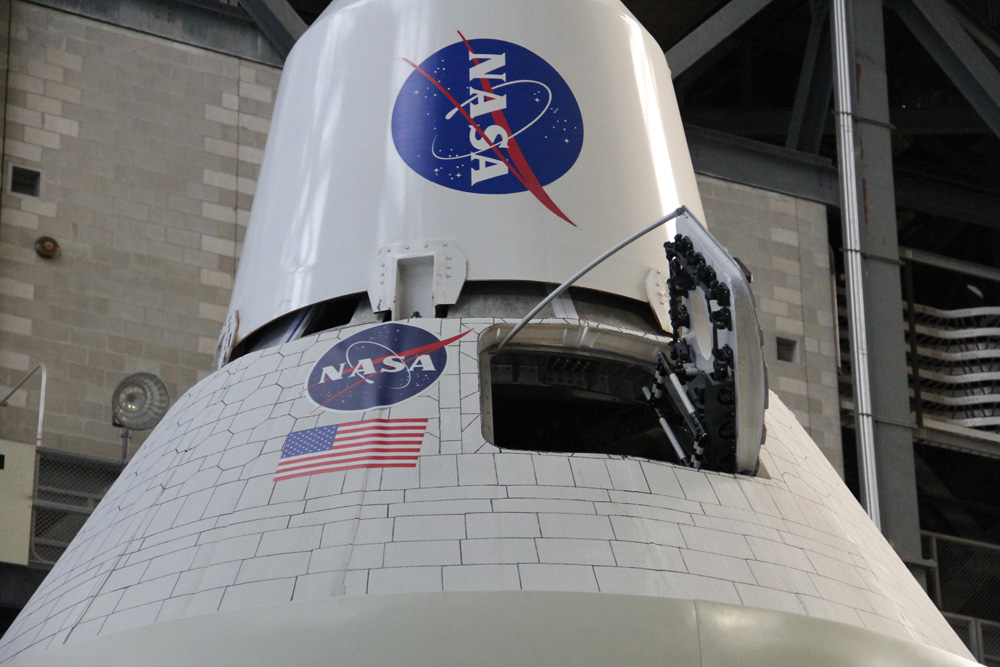NASA: (388, 29, 598, 228), (304, 318, 481, 412)
